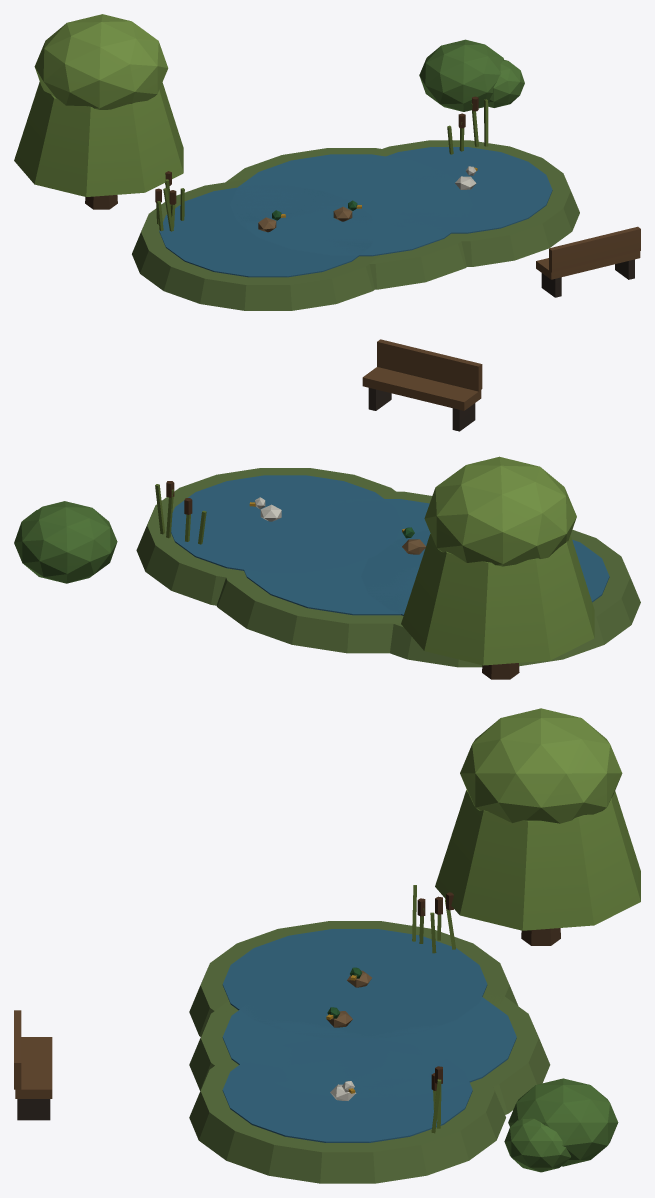
File: pond.glb
The picture shows the model from 3 angles, top to bottom: view 1: azimuth 30°, elevation 25°; view 2: azimuth 150°, elevation 25°; view 3: azimuth 270°, elevation 25°; orthographic projection. The views are drawn at different scales.
Visible parts, largest first — view 1: pond_model; view 2: pond_model; view 3: pond_model.
Boxes of the visible parts, left/top/right/bottom form: pond_model: left=14, top=14, right=640, bottom=310; pond_model: left=14, top=339, right=640, bottom=679; pond_model: left=14, top=708, right=640, bottom=1183.
Size of the model in its own units: 0.9423 by 0.3609 by 0.8528.
